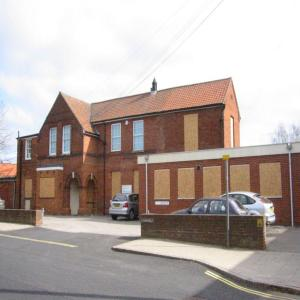Vehicle-registration-plate: (115, 205, 121, 208)
